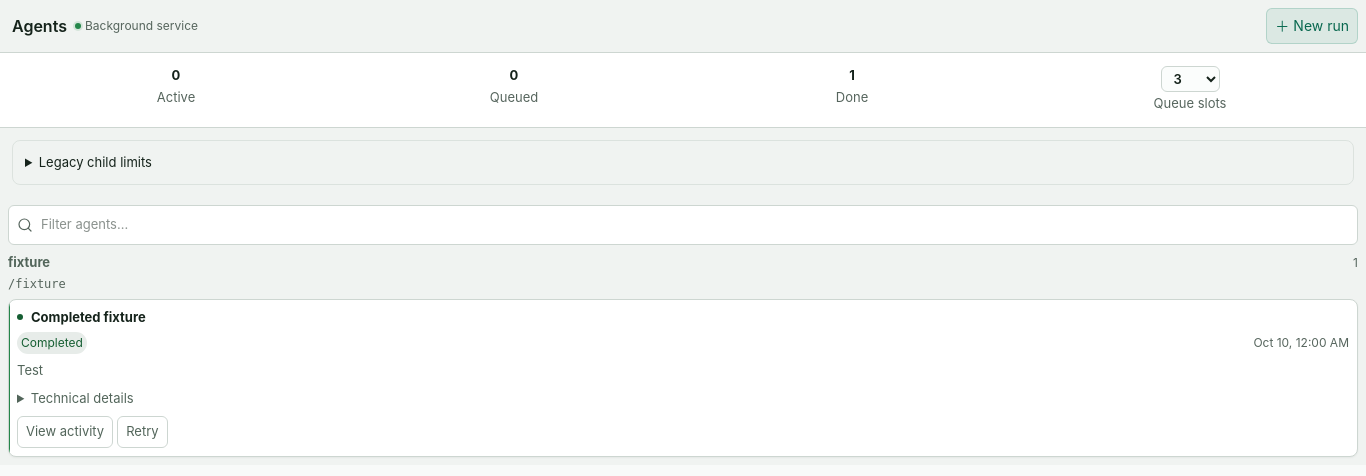
Scenario: AgentDashboardPanel › distinguishes a filtered empty list and restores completed history with Clear filters
Click the button "0 Active" at x=176, y=90, box [8, 61, 344, 118]
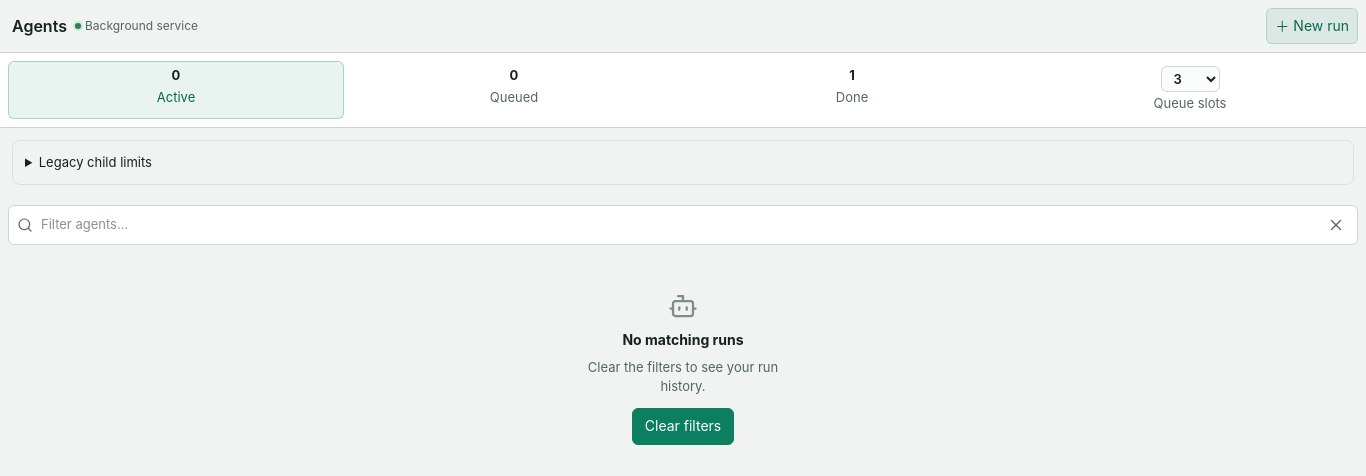
Now the text "No matching runs" is shown, box [622, 329, 744, 350]
Click the button "Clear filters" at x=683, y=426, box [632, 408, 734, 445]
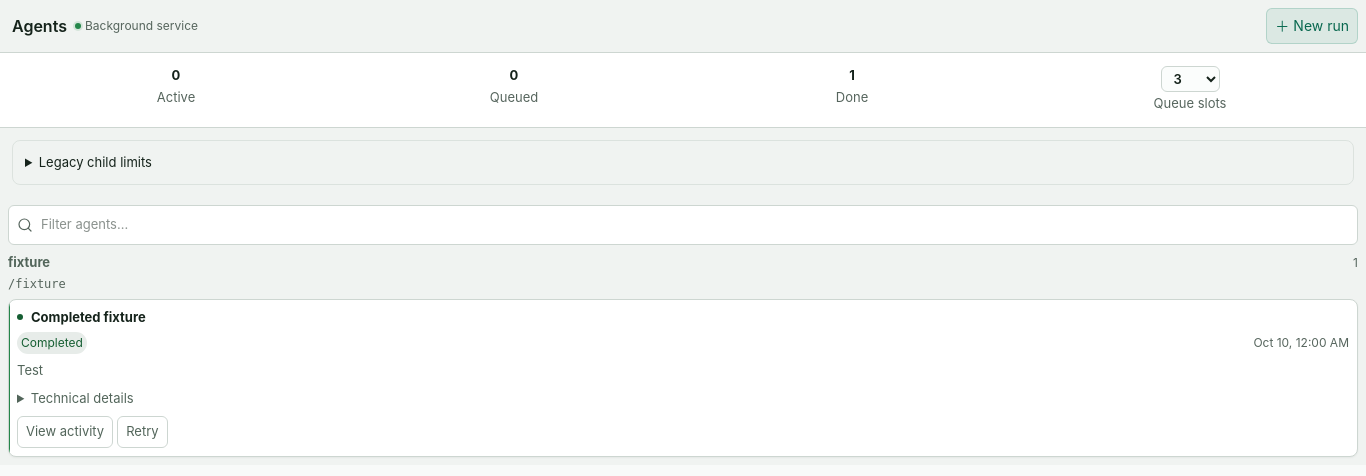
Now the text "Completed fixture" is shown, box [31, 308, 146, 324]
Now the text "No matching runs" is gone
